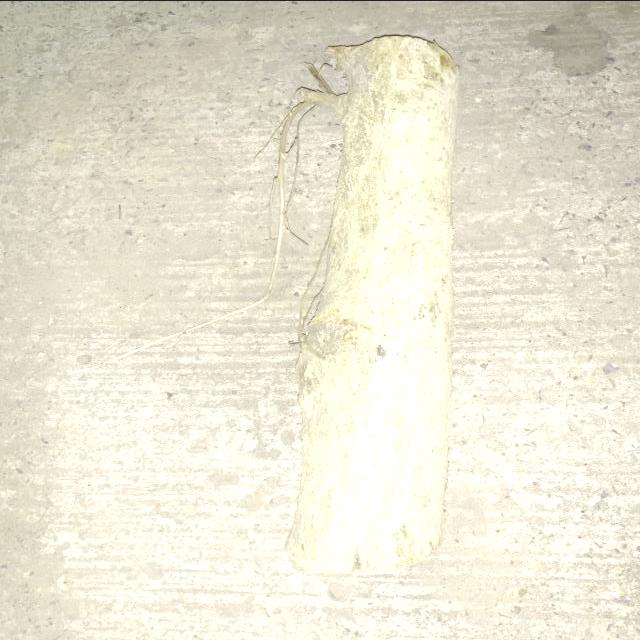Infectious: (281, 32, 460, 576)
Sharps: (67, 59, 348, 383)
